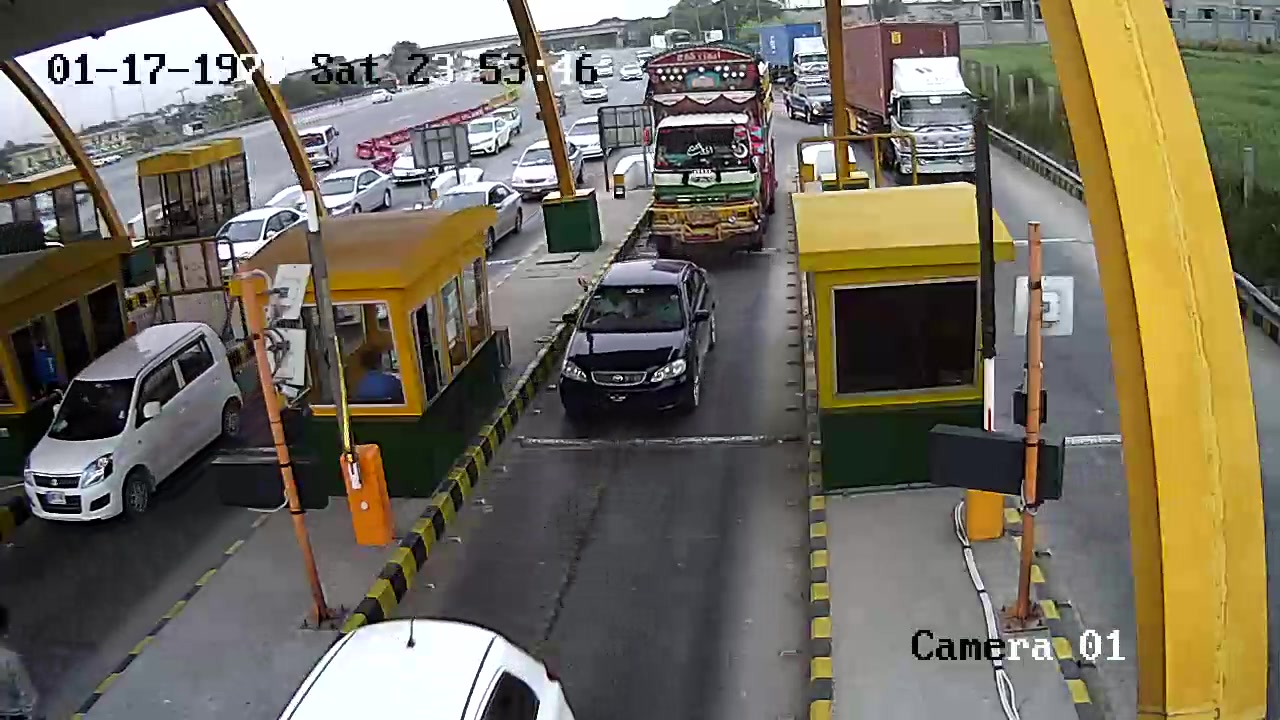F1: (553, 251, 720, 432)
